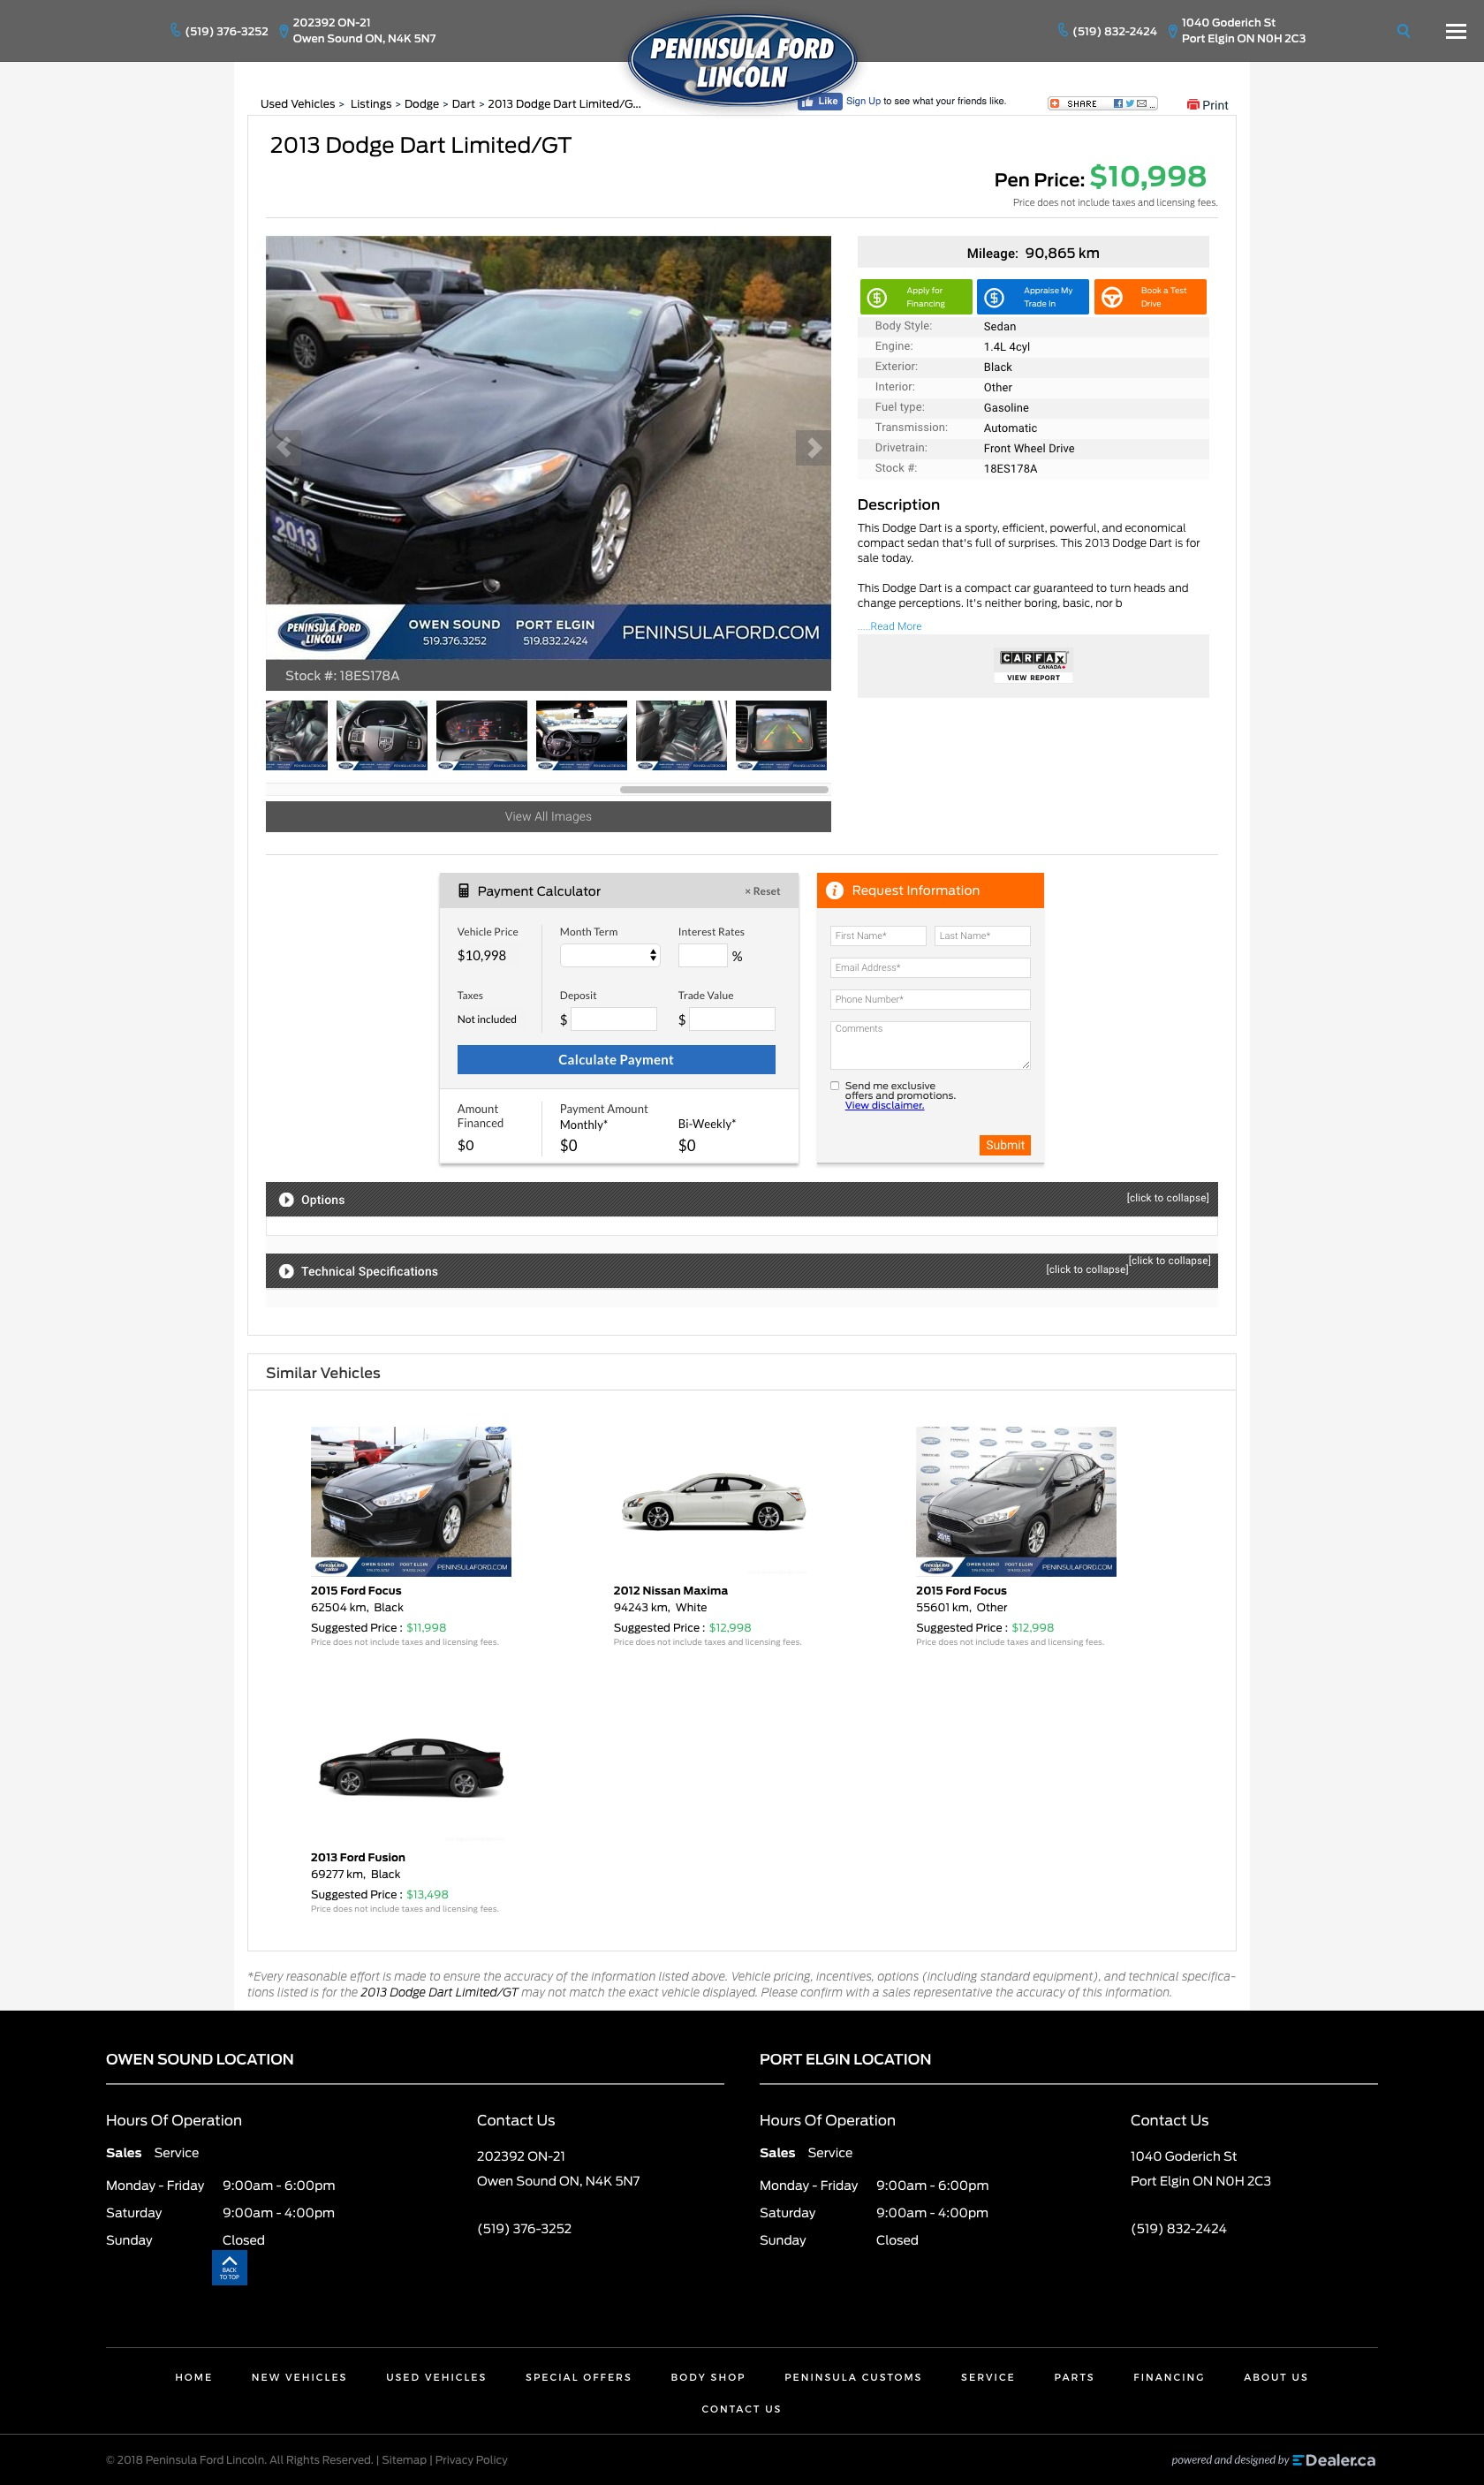car: (807, 440, 823, 461)
